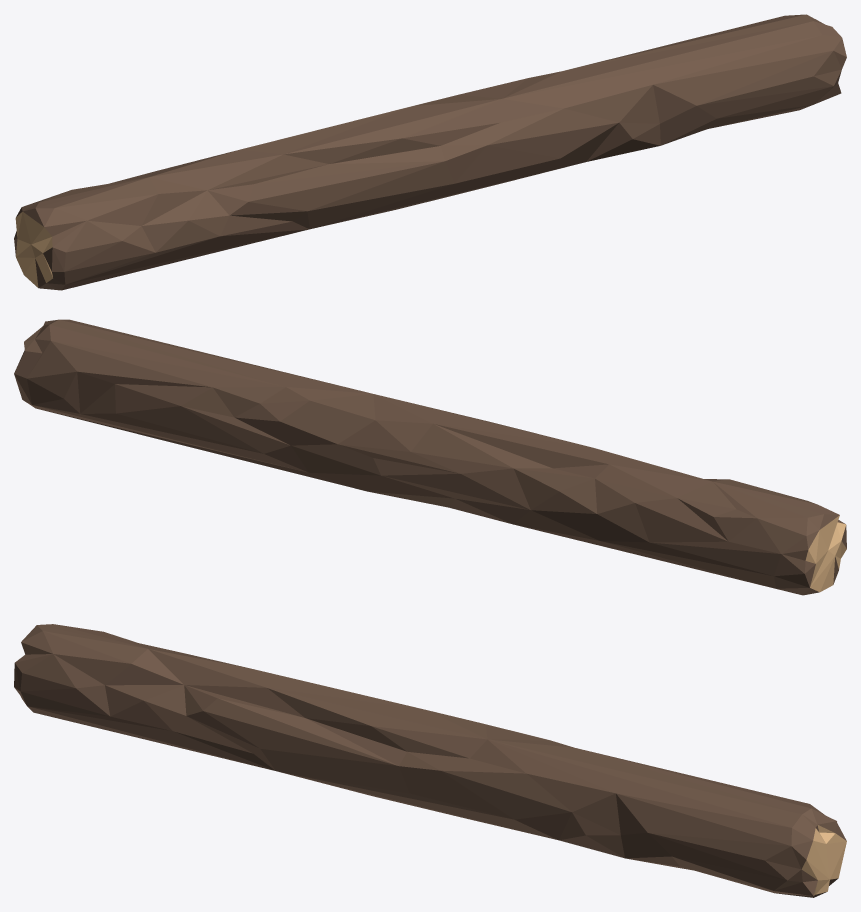
File: wood 1.glb
3 renders of one model, top to bottom at view 1: azimuth 30°, elevation 25°; view 2: azimuth 150°, elevation 25°; view 3: azimuth 330°, elevation 25°, orthographic.
Visible parts, largest first — view 1: Cube; view 2: Cube; view 3: Cube.
Part boxes in pixels (left/top/right/bottom): Cube: left=14, top=14, right=846, bottom=290; Cube: left=14, top=319, right=846, bottom=595; Cube: left=14, top=624, right=846, bottom=897.
Size of the model in its own units: 2.01 by 0.2083 by 0.2097.
